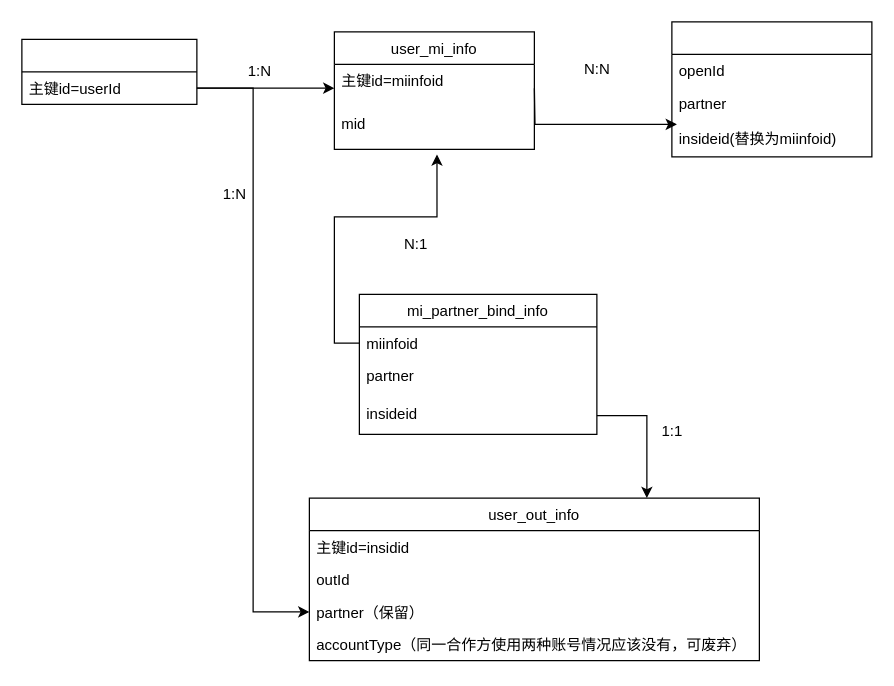
This 894x686 diagram has some shape labels left out. The box of each missing label's shape, as (x1, y1, x2, y2) in pixels:
user_bind_info: (671, 21, 872, 157)
user_profile: (21, 38, 197, 104)
